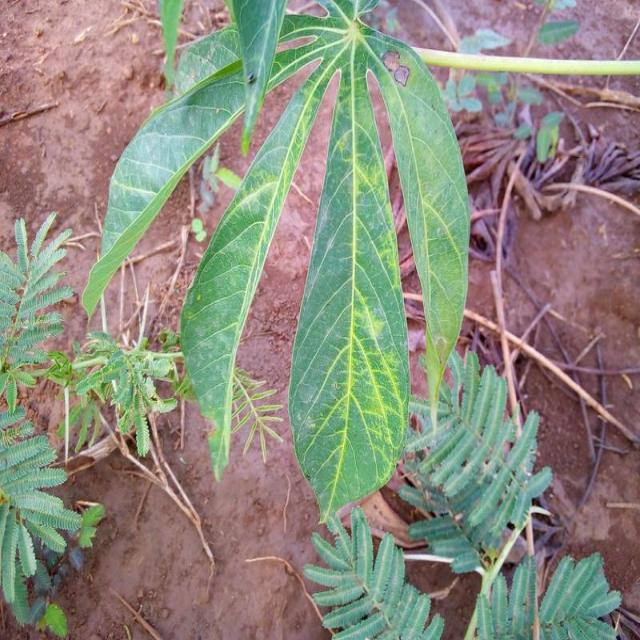cassava leaf: (84, 0, 473, 524), (179, 48, 344, 481), (287, 44, 412, 526)
